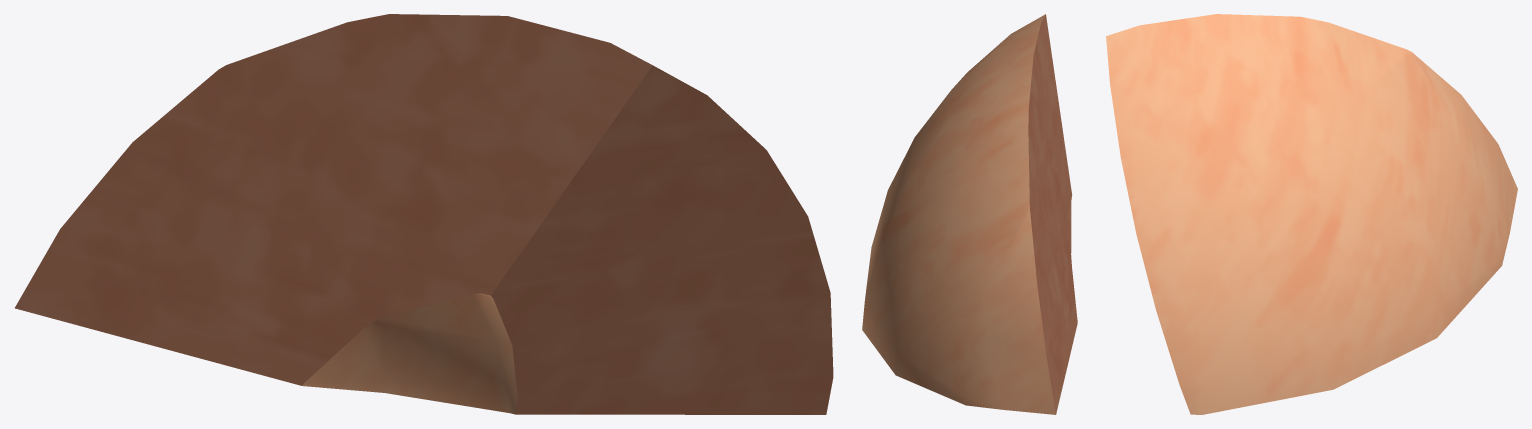
Rendered from dome_s05.fbx.
The picture shows the model from 3 angles, left to right: view 1: azimuth 30°, elevation 25°; view 2: azimuth 150°, elevation 25°; view 3: azimuth 270°, elevation 25°; orthographic projection. The views are drawn at different scales.
Parts seen in each view (by area): view 1: dome_s05; view 2: dome_s05; view 3: dome_s05.
Part boxes in pixels (x1,y1,x2,y2): dome_s05: (15,14,833,414); dome_s05: (862,14,1077,414); dome_s05: (1106,14,1517,414).
Size of the model in its own units: 4.85 by 3.84 by 4.61.
